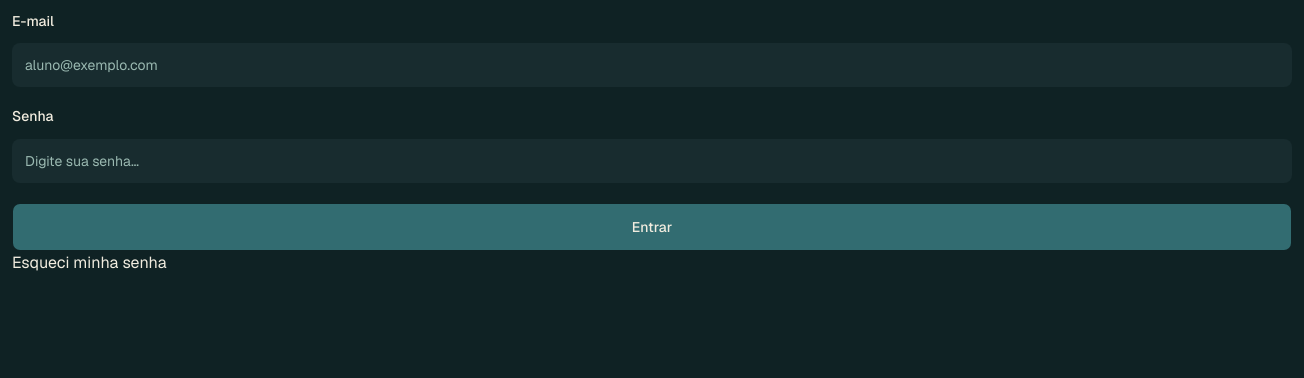
SignInForm › offers the configured support email when access is blocked
In the field with id "email": (652, 65) [12,43,1292,87], type "student@example.test"
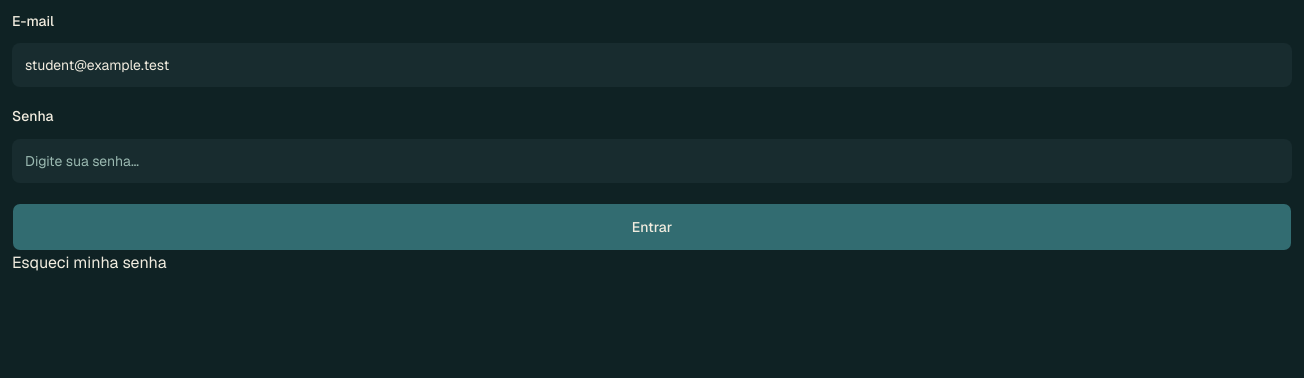
In the password field labelled "Senha": (652, 160) [12,138,1292,182], type "password-123"
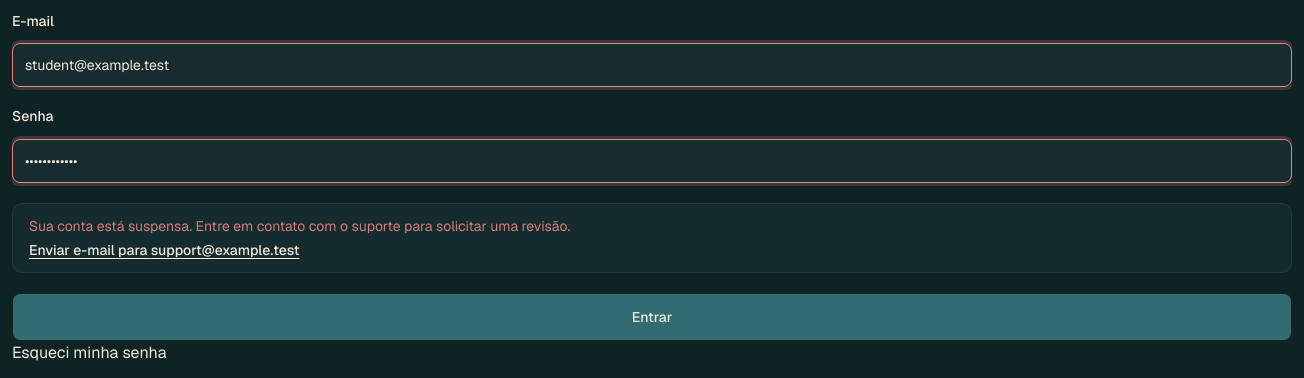
Now the link "Enviar e-mail para support@example.test" is shown, box [29,240,300,258]
